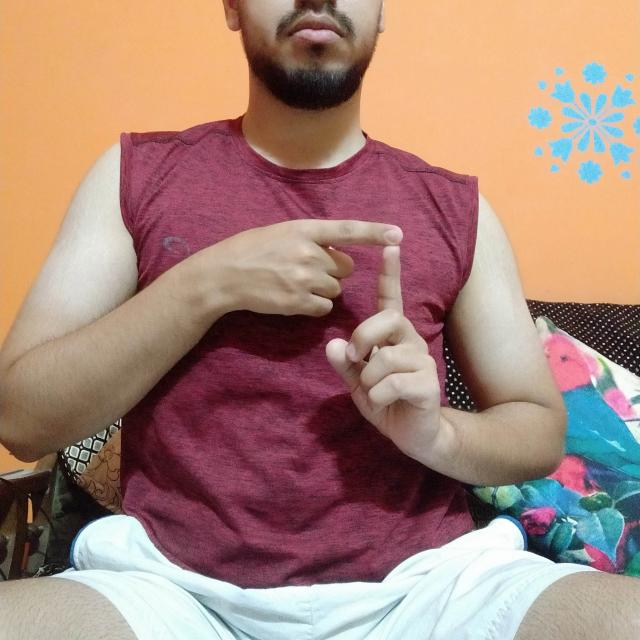I: (196, 200, 449, 455)
